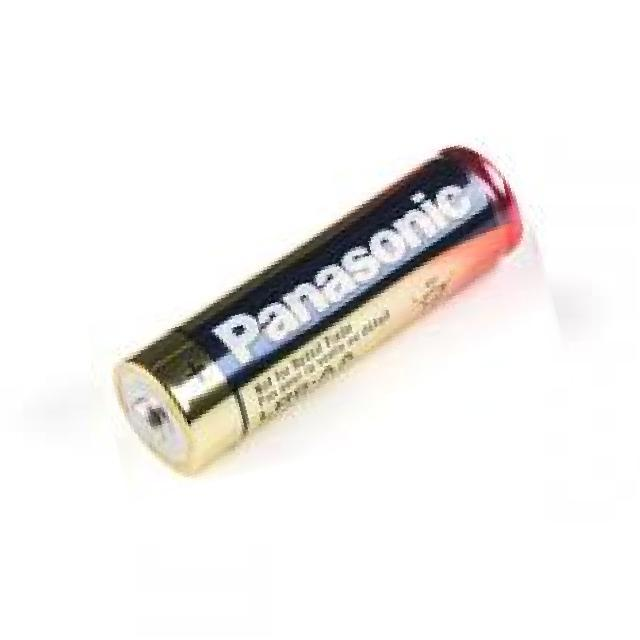Battery: (108, 143, 524, 483)
